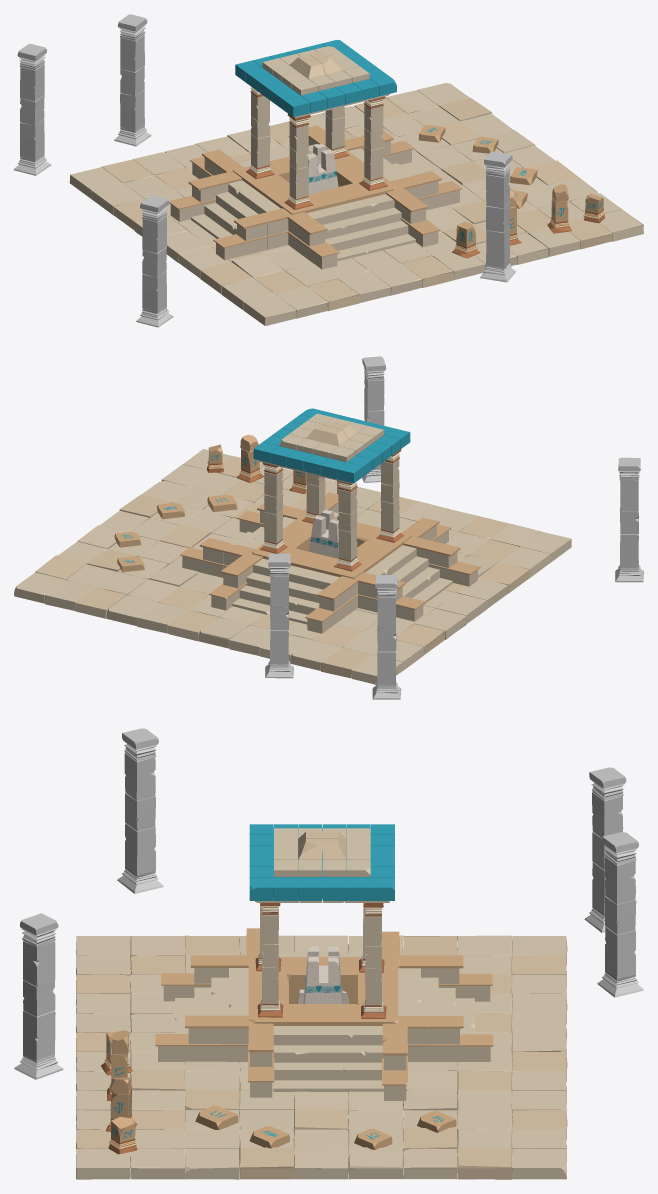
File: puzzleeson butonlu3.fbx
The picture shows the model from 3 angles, top to bottom: view 1: azimuth 30°, elevation 25°; view 2: azimuth 150°, elevation 25°; view 3: azimuth 270°, elevation 25°; orthographic projection. The views are drawn at different scales.
Parts seen in each view (by area): view 1: Cube.046, Cube.008, Cube.014, Cube.002, Cube.012, Cube.005, Cube.006, Cube.009, Cube.004; view 2: Cube.046, Cube.008, Cube.002, Cube.014, Cube.012, Cube.005, Cube.006; view 3: Cube.046, Cube.012, Cube.014, Cube.008, Cube.002, Cube.005, Cube.006, Cube.004, Cube.007, Cube.001, Cube.013.
Boxes of the visible parts, <box> form: Cube.046: <box>69,40,643,326</box>; Cube.008: <box>114,14,151,146</box>; Cube.014: <box>136,195,173,327</box>; Cube.002: <box>14,43,51,175</box>; Cube.012: <box>480,151,515,282</box>; Cube.005: <box>307,144,338,194</box>; Cube.006: <box>547,184,572,233</box>; Cube.009: <box>452,221,480,258</box>; Cube.004: <box>583,193,605,223</box>; Cube.046: <box>14,408,571,684</box>; Cube.008: <box>265,553,293,678</box>; Cube.002: <box>372,575,401,699</box>; Cube.014: <box>615,457,643,582</box>; Cube.012: <box>362,356,386,482</box>; Cube.005: <box>309,509,339,558</box>; Cube.006: <box>236,434,264,483</box>; Cube.046: <box>76,824,567,1179</box>; Cube.012: <box>14,913,63,1079</box>; Cube.014: <box>117,728,163,893</box>; Cube.008: <box>597,832,643,997</box>; Cube.002: <box>584,767,626,932</box>; Cube.005: <box>297,946,349,1003</box>; Cube.006: <box>105,1077,137,1131</box>; Cube.004: <box>108,1117,137,1154</box>; Cube.007: <box>107,1030,131,1101</box>; Cube.001: <box>195,1106,238,1129</box>; Cube.013: <box>249,1126,289,1148</box>.
Bounding box in the file's own units: 17499 × 5674 × 15828.
